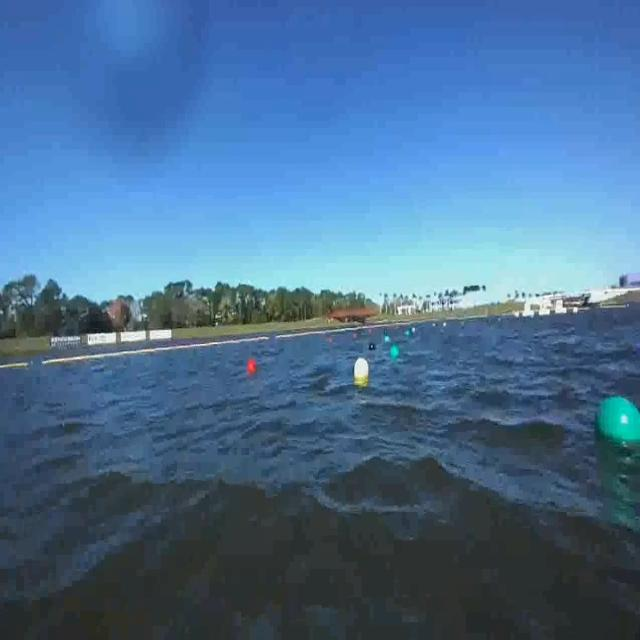black-buoy: (368, 344, 374, 352)
green-buoy: (592, 394, 640, 460), (391, 345, 398, 359)
red-buoy: (248, 358, 258, 376)
yellow-buoy: (353, 358, 369, 384)
